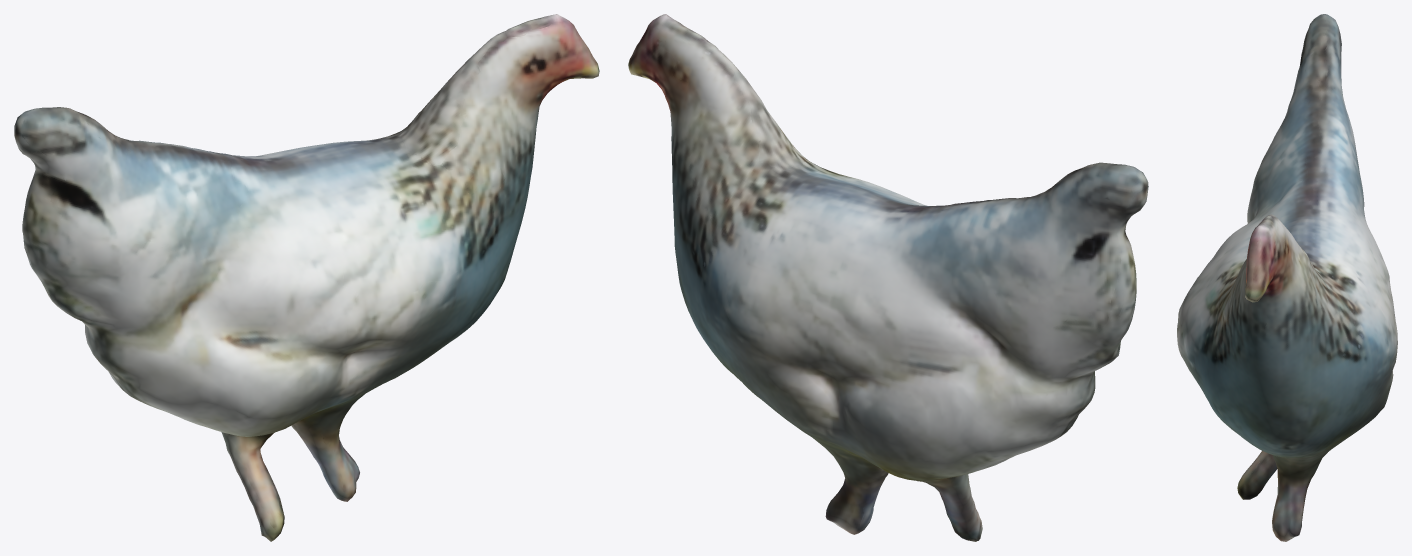
File: joven.glb
The picture shows the model from 3 angles, left to right: view 1: azimuth 30°, elevation 25°; view 2: azimuth 150°, elevation 25°; view 3: azimuth 270°, elevation 25°; orthographic projection. The views are drawn at different scales.
Visible parts, largest first — view 1: mesh; view 2: mesh; view 3: mesh.
Boxes of the visible parts, <box> form: mesh: <box>14,14,599,541</box>; mesh: <box>628,14,1148,541</box>; mesh: <box>1177,14,1397,541</box>.
Bounding box in the file's own units: 1.6 × 1.26 × 0.6284.
1 material, 1 textured.
